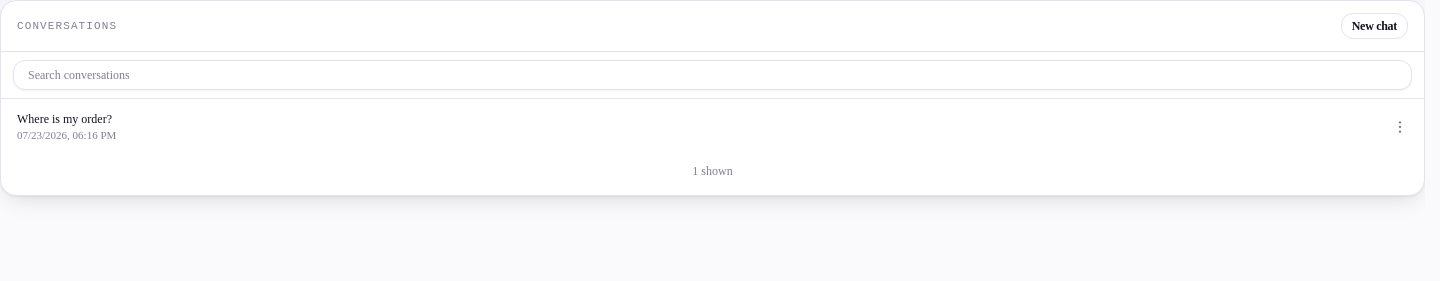
Test case: AiConversationList thread menu › closes when clicking outside
The width and height of the screenshot is (1440, 281).
Click the button named "conversation options" at x=1400, y=127, box [1384,111,1416,143]
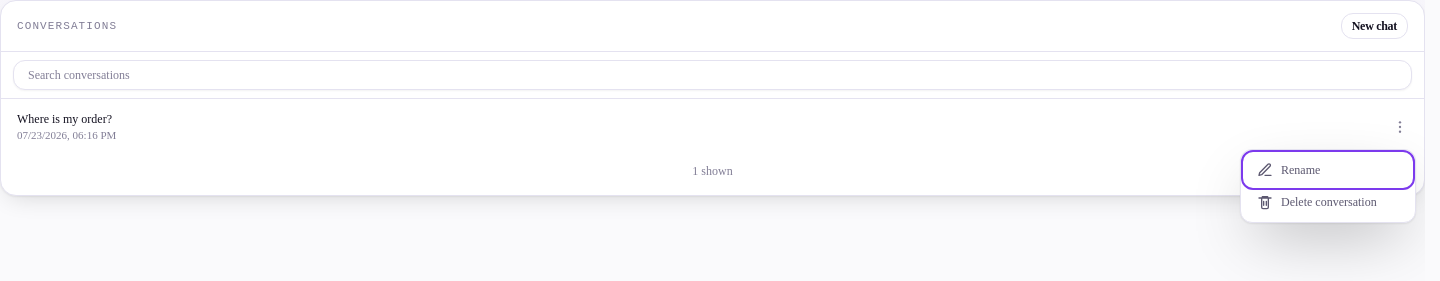
Click the element that starts with "Conversations" at x=712, y=98, box [0,0,1425,196]
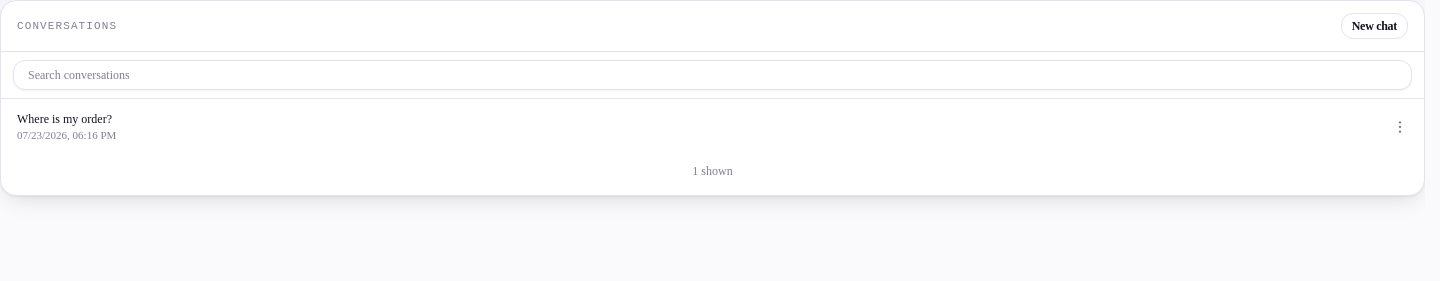
Check: the menu is gone
